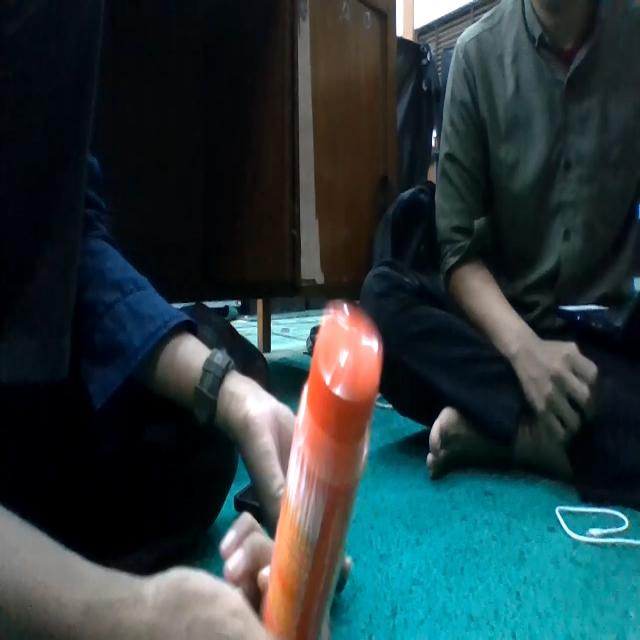Boncabe: (263, 302, 382, 639)
